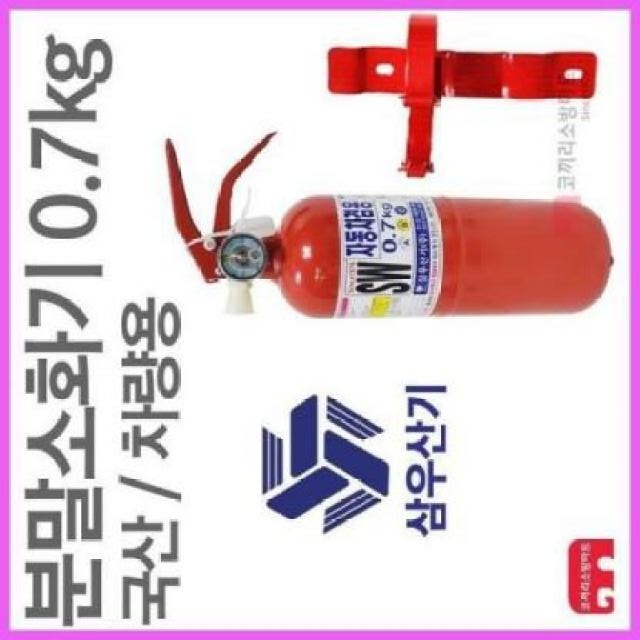fire extinguisher: (165, 129, 612, 320)
